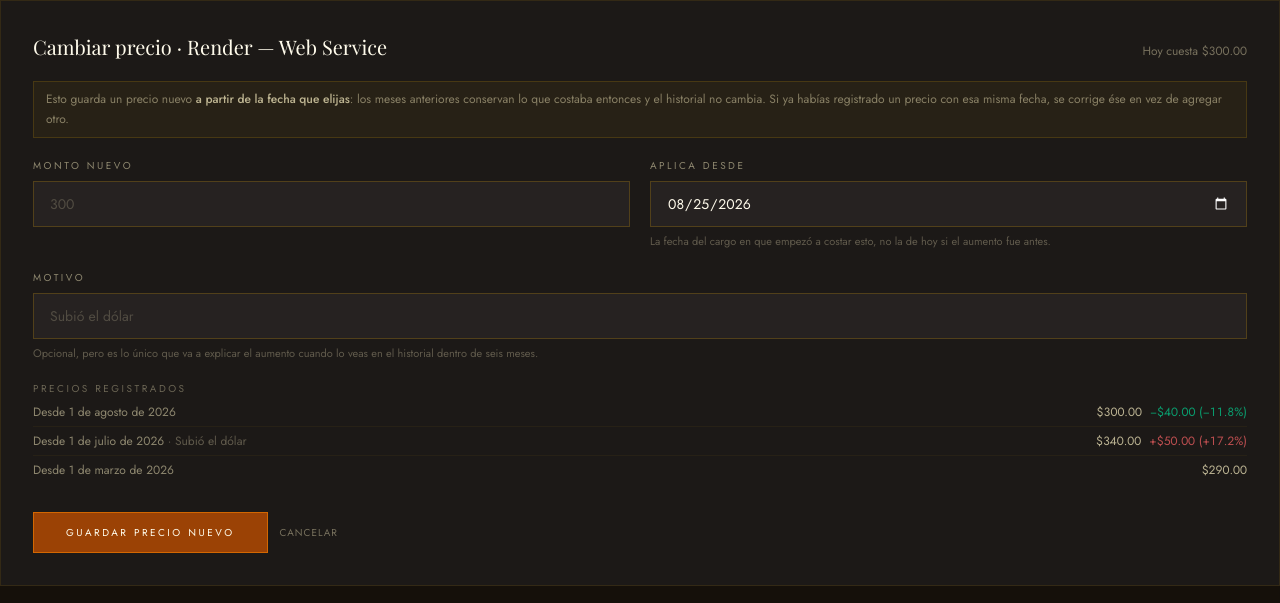
Scenario: ExpenseAmountForm › validación › exige el monto nuevo
Click the button "Guardar precio nuevo".
click(150, 532)  # box [33, 512, 268, 553]
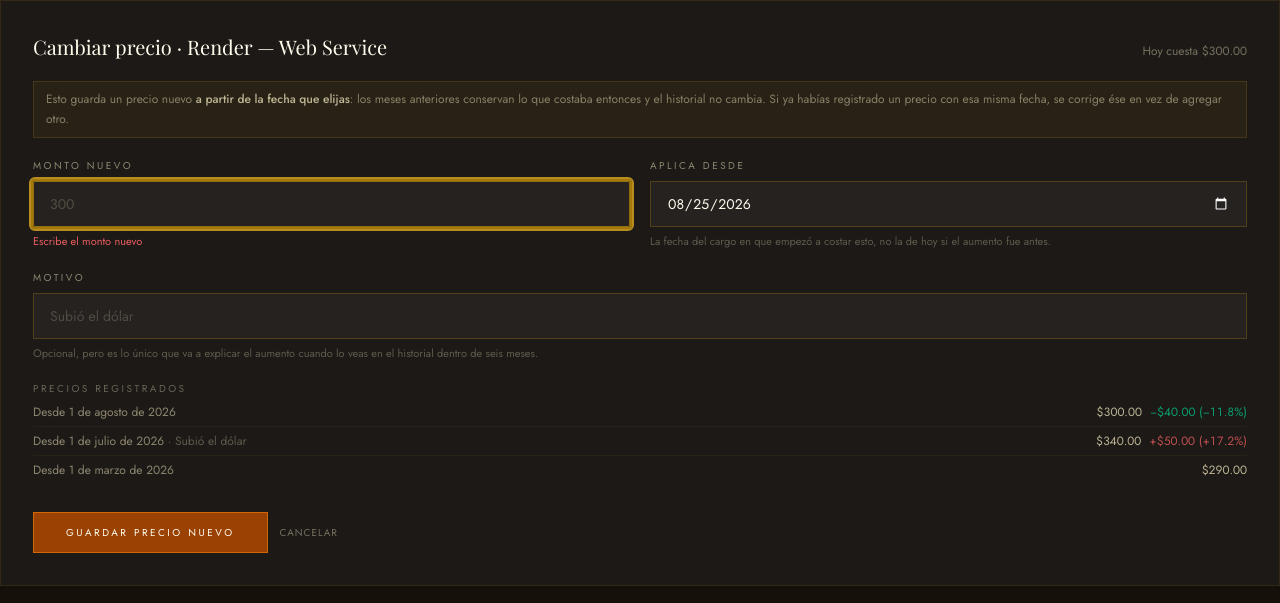
Expected: the text "Escribe el monto nuevo" is shown, [33, 233, 142, 249]
